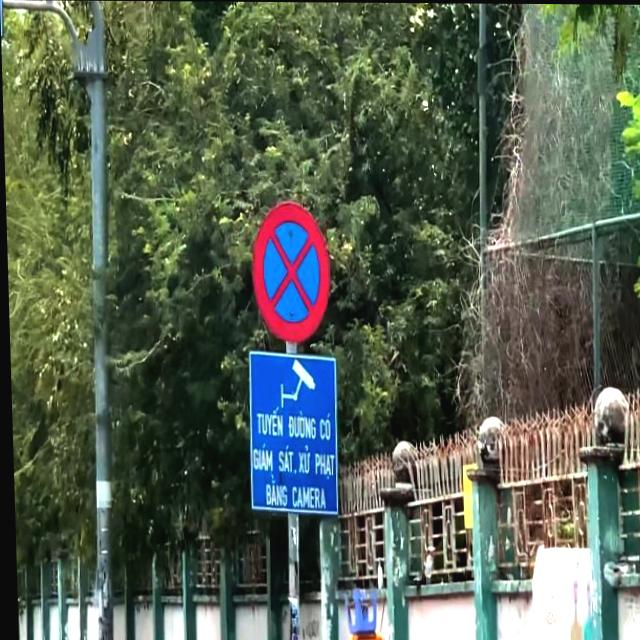Cam dung xe va do xe: (249, 200, 330, 343)
